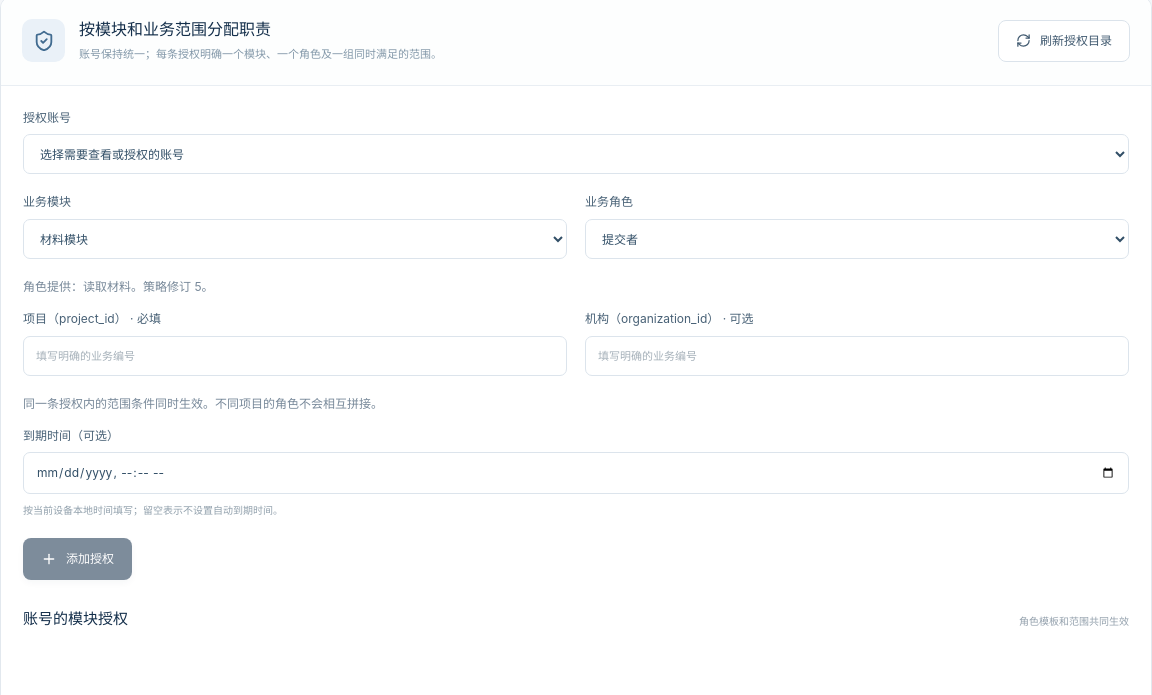
模块范围授权管理 › 展示有效、到期、已撤销授权，撤销后重读服务记录
The image size is (1152, 695).
Select "用户甲（alpha）" in the dropdown labelled "授权账号" at (576, 154), box [23,134,1129,174]
(page scrolled)
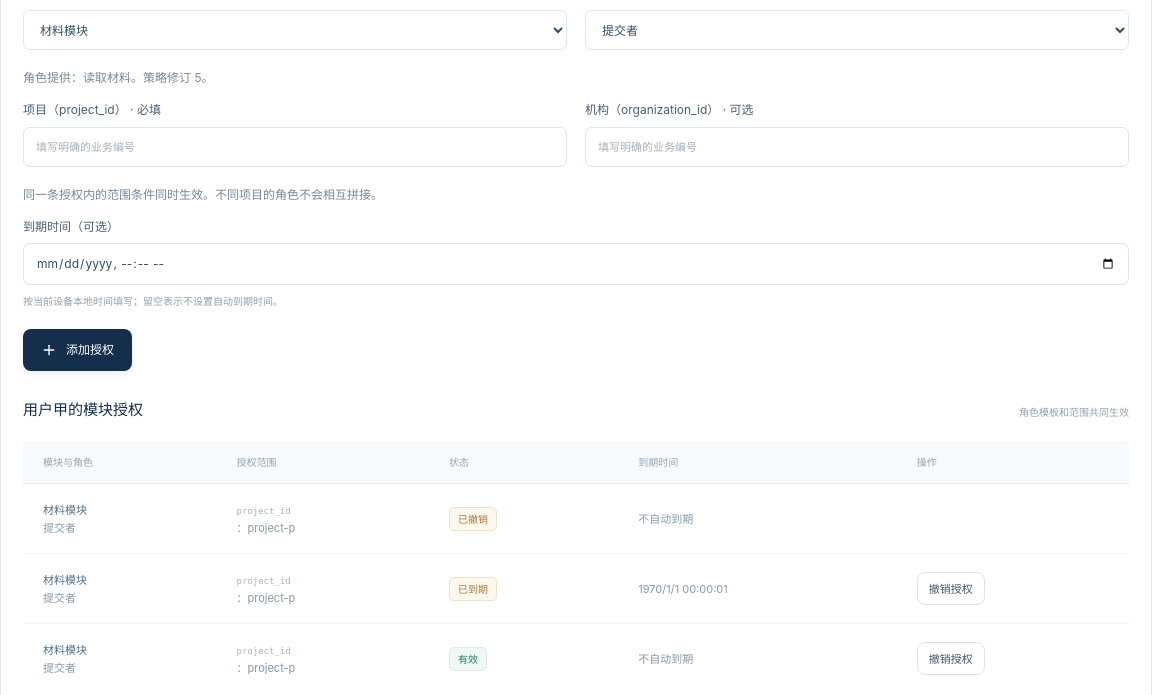
Now the text "有效" is shown, box [449,647,487,671]
Now the text "已到期" is shown, box [449,577,497,601]
Now the text "已撤销" is shown, box [449,507,497,531]
Click the button "撤销授权" in the row of "有效" at (951, 659), box [917,642,985,675]
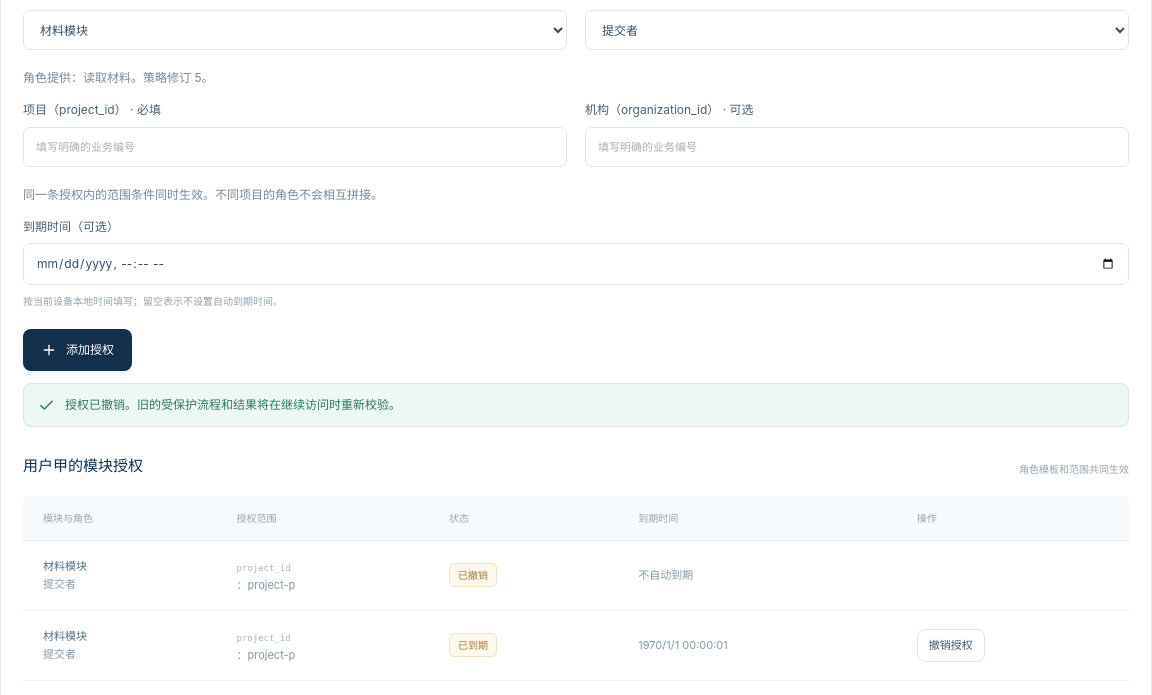
Now the text "授权已撤销。旧的受保护流程和结果将在继续访问时重新校验。" is shown, box [65,397,401,412]
